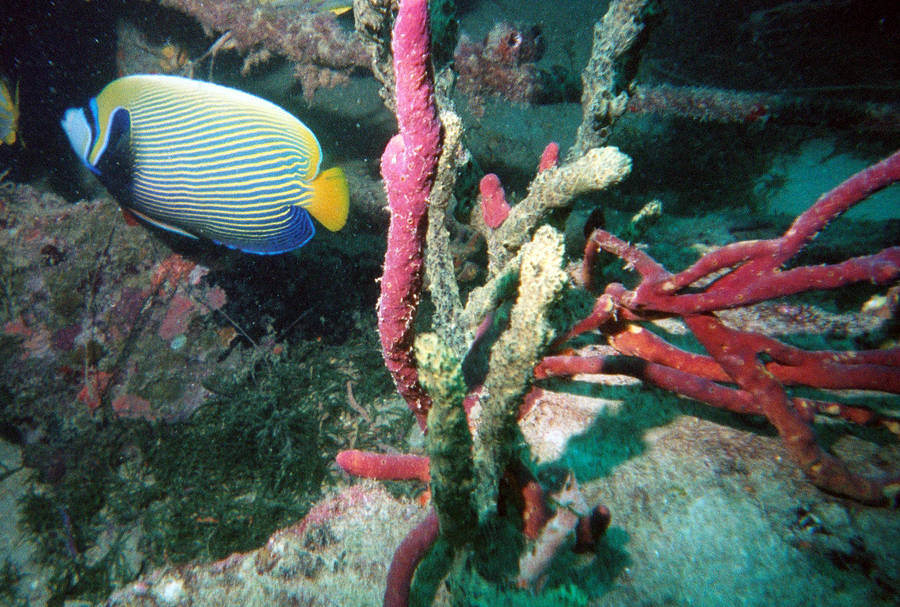Pomacanthus_imperator: (51, 47, 362, 295)
